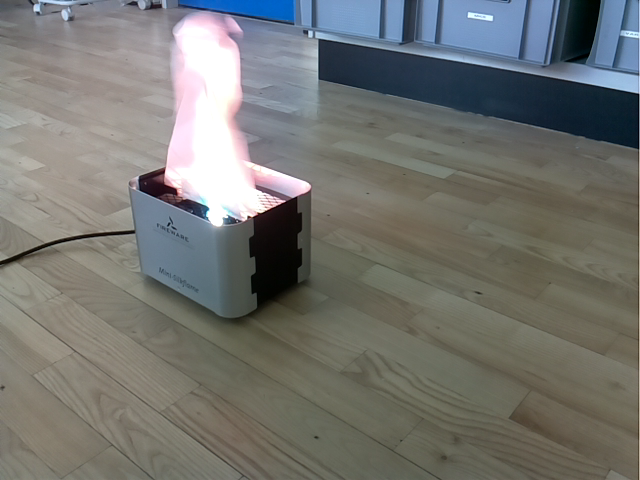fire: (164, 10, 260, 222)
